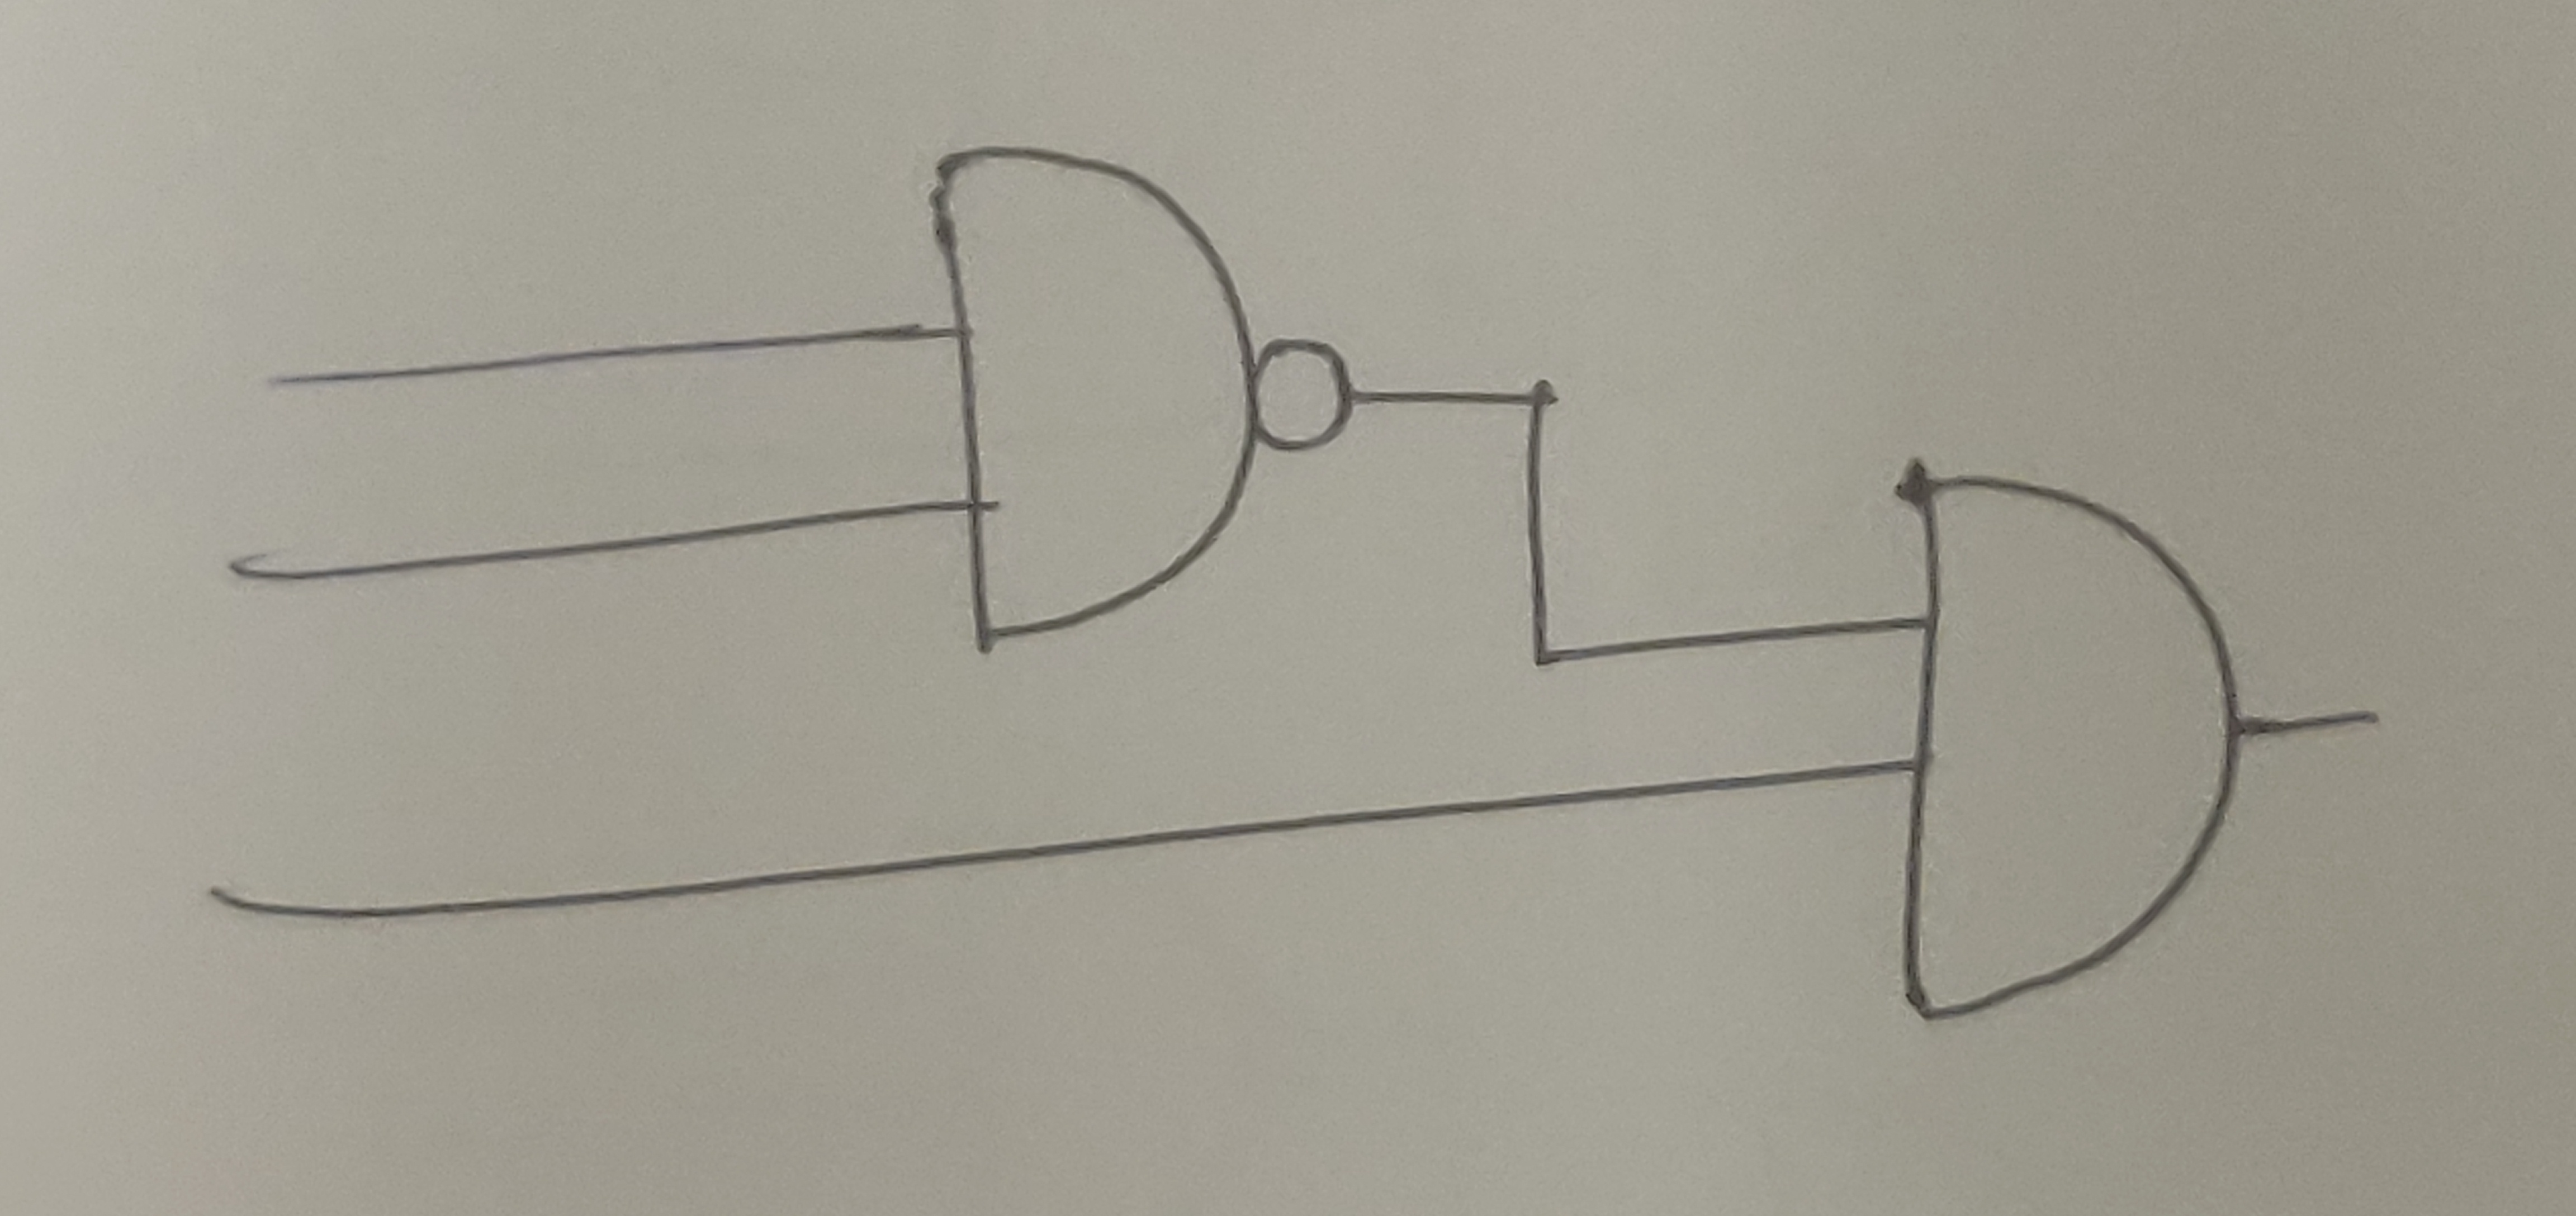and: (1896, 467, 2241, 1022), (930, 145, 1265, 644)
not: (1252, 332, 1360, 460)
